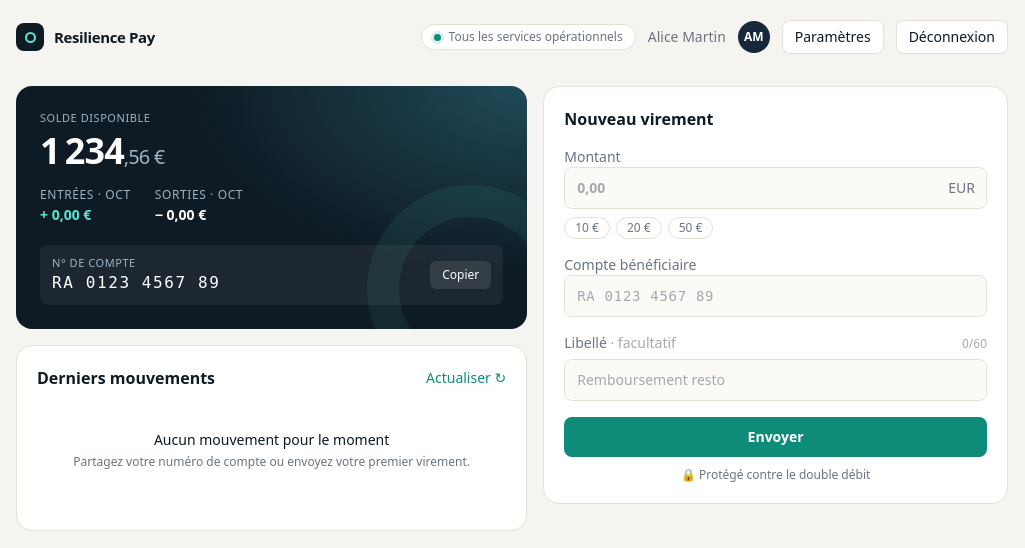
Test: App : paramètres du compte › ouvre la section Sécurité avec la double authentification, puis revient aux comptes
Step 1. Click the button "Paramètres" → (833, 37), box [782, 20, 884, 54]
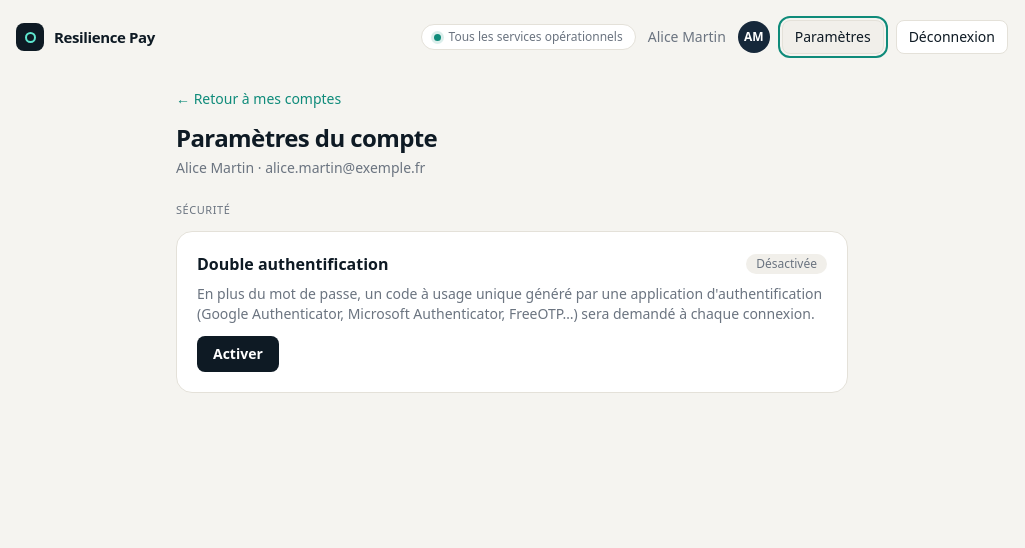
Expected: the heading "Paramètres du compte" is shown, [176, 121, 437, 154]
Expected: the heading "Sécurité" is shown, [176, 202, 230, 217]
Expected: the button "Activer" is shown, [197, 336, 279, 372]
Step 2. Click the button "← Retour à mes comptes" → (259, 99), box [176, 89, 341, 109]
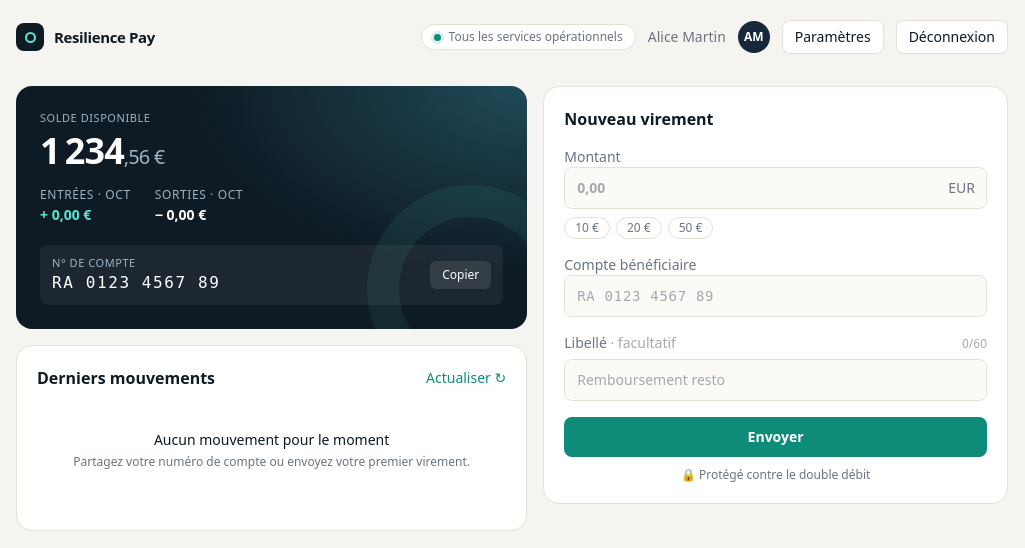
Expected: the element with test id "balance" is shown, [40, 126, 164, 174]
